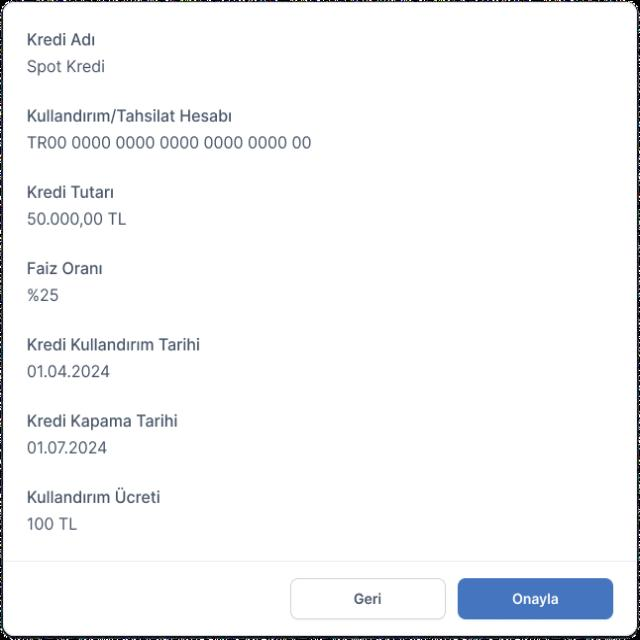QLabel: (23, 131, 315, 154), (22, 107, 233, 124), (22, 335, 202, 354), (24, 412, 180, 431), (25, 487, 164, 506), (22, 183, 118, 202), (25, 210, 130, 227), (22, 260, 104, 278), (22, 58, 108, 75), (24, 439, 106, 455), (24, 363, 109, 378), (23, 31, 98, 47), (26, 516, 79, 533), (511, 591, 560, 607), (26, 287, 60, 302), (353, 591, 382, 605)
VBtn: (458, 576, 614, 620), (292, 576, 448, 620)
VCard: (0, 0, 640, 640)
VDivider: (4, 556, 635, 566)
